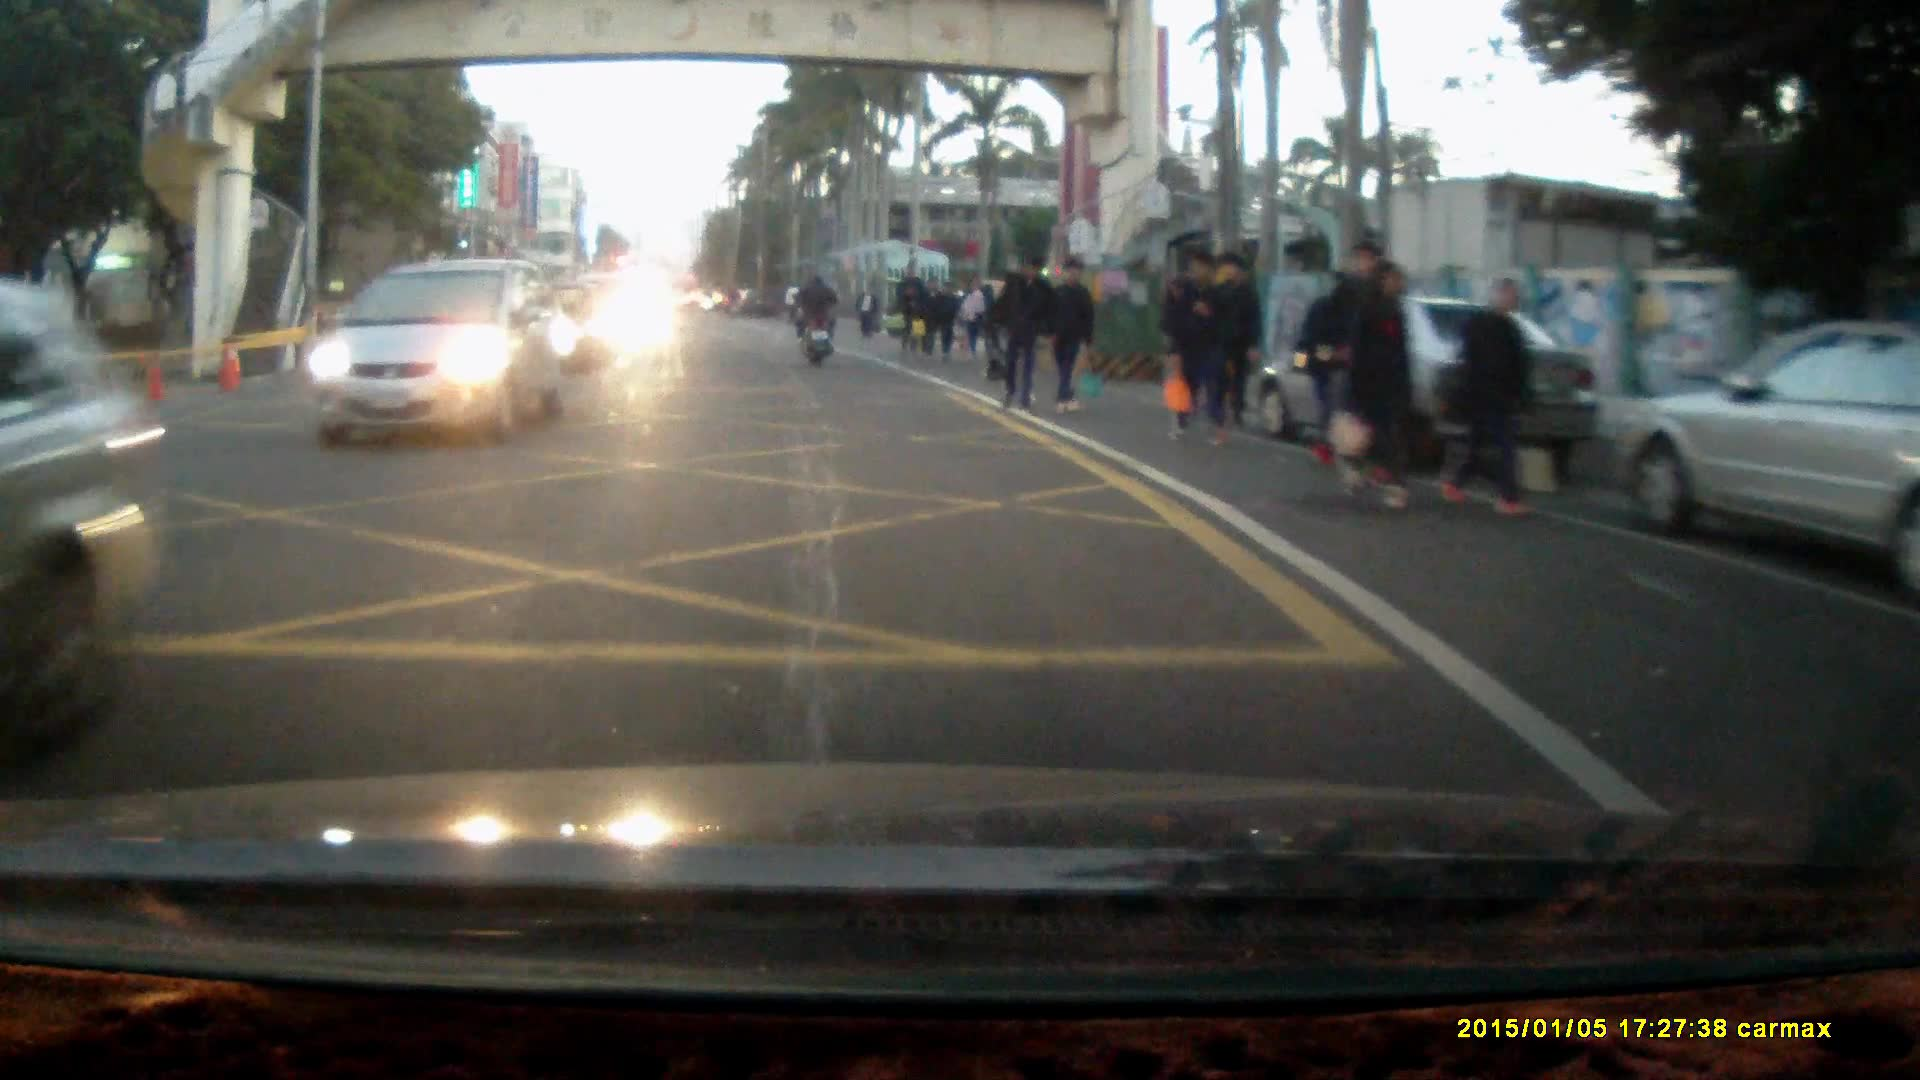pedestrian: (1449, 270, 1540, 518), (1342, 257, 1418, 512), (1318, 237, 1388, 476), (1161, 246, 1226, 448), (1298, 266, 1360, 459), (1207, 249, 1262, 434), (998, 251, 1058, 414), (1042, 251, 1097, 417), (914, 270, 949, 363), (892, 261, 924, 358), (958, 272, 990, 360), (855, 279, 878, 343)
rider: (794, 271, 838, 366)
vehicle: (1601, 319, 1920, 603), (1, 282, 168, 688), (1258, 297, 1601, 464), (305, 253, 570, 454)
